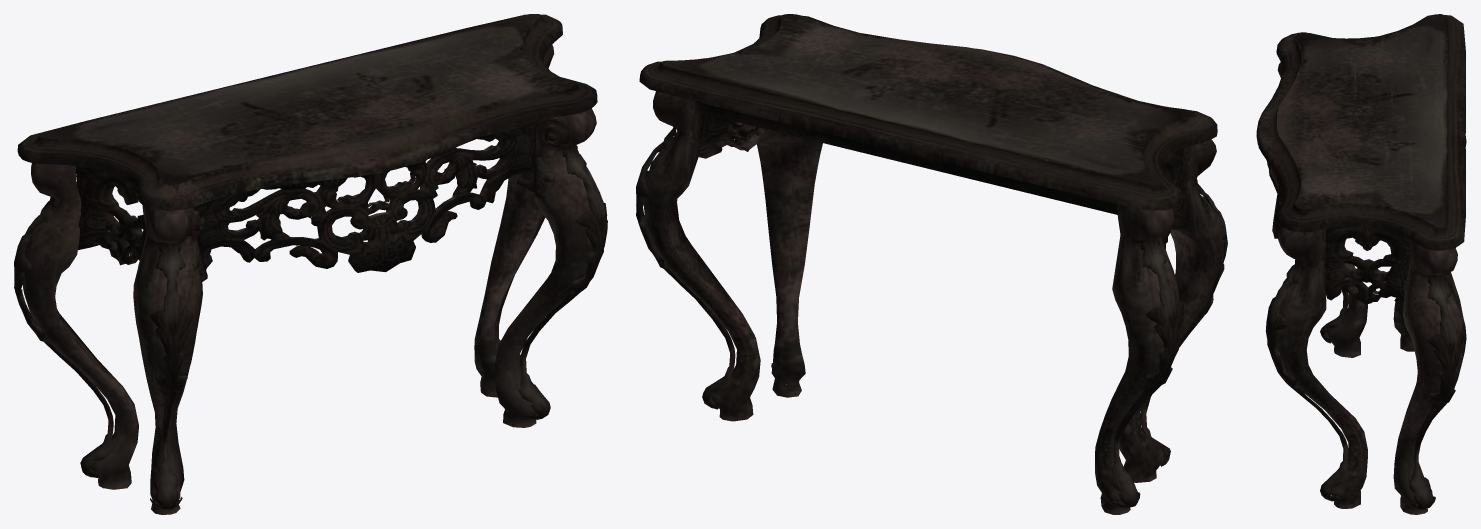
The model's file is ClassicConsole_01.glb.
The picture shows the model from 3 angles, left to right: view 1: azimuth 30°, elevation 25°; view 2: azimuth 150°, elevation 25°; view 3: azimuth 270°, elevation 25°; orthographic projection. The views are drawn at different scales.
Parts seen in each view (by area): view 1: ClassicConsole_01; view 2: ClassicConsole_01; view 3: ClassicConsole_01.
Boxes of the visible parts, x1,y1,x2,y2 form: ClassicConsole_01: [14, 14, 607, 514]; ClassicConsole_01: [636, 14, 1227, 514]; ClassicConsole_01: [1256, 14, 1466, 514].
Bounding box in the file's own units: 1.54 × 0.9491 × 0.5893.
Materials: 1 (1 with a texture image).
